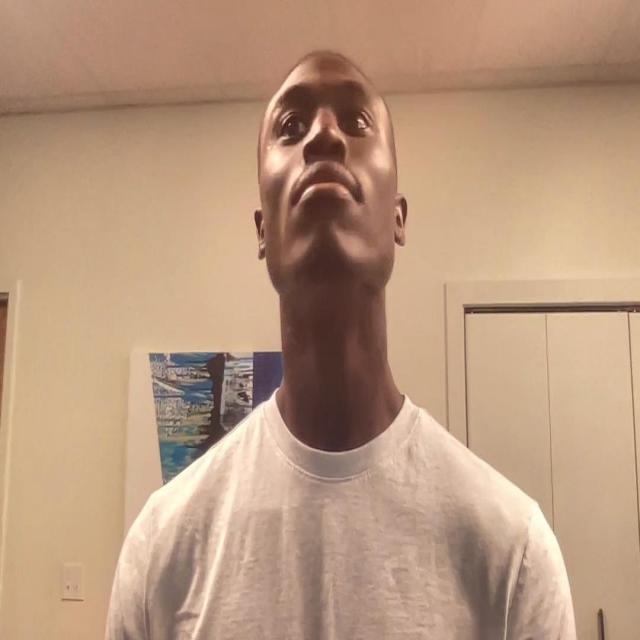face: (260, 70, 402, 310)
